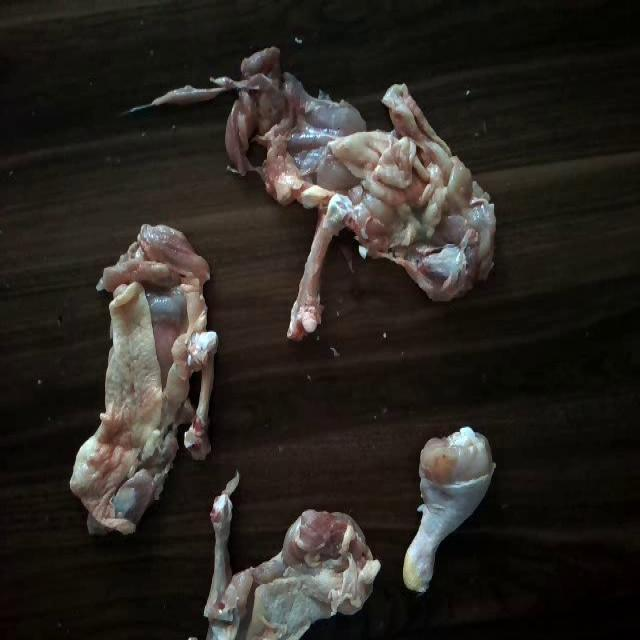leg: (396, 422, 492, 598)
